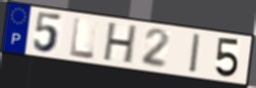2: (140, 27, 171, 71)
5: (32, 12, 65, 55), (214, 37, 240, 79)
H: (101, 21, 140, 66)
I: (188, 32, 202, 76)
L: (69, 16, 96, 61)
